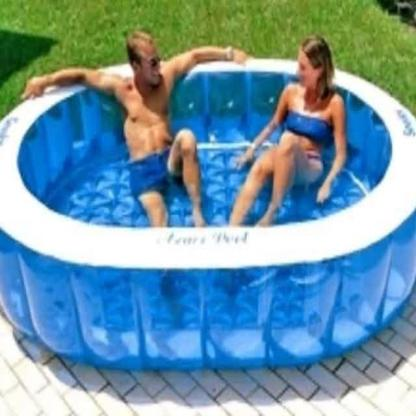other: (5, 223, 405, 270), (361, 67, 410, 223), (0, 95, 38, 244)
